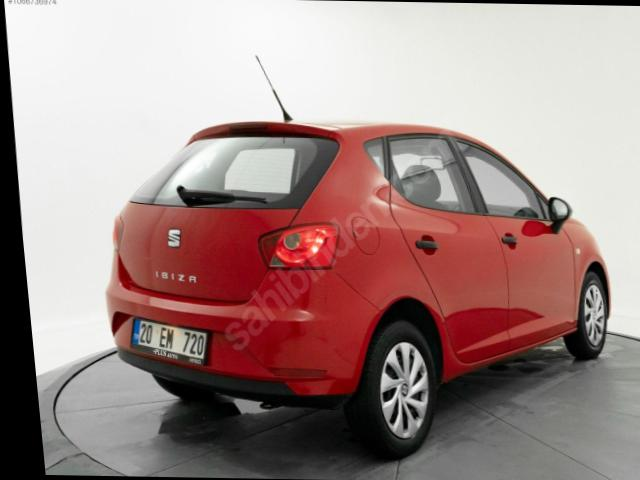plaka: (132, 318, 207, 364)
